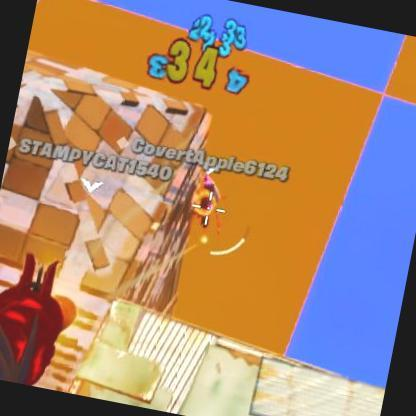person: (194, 173, 222, 226)
